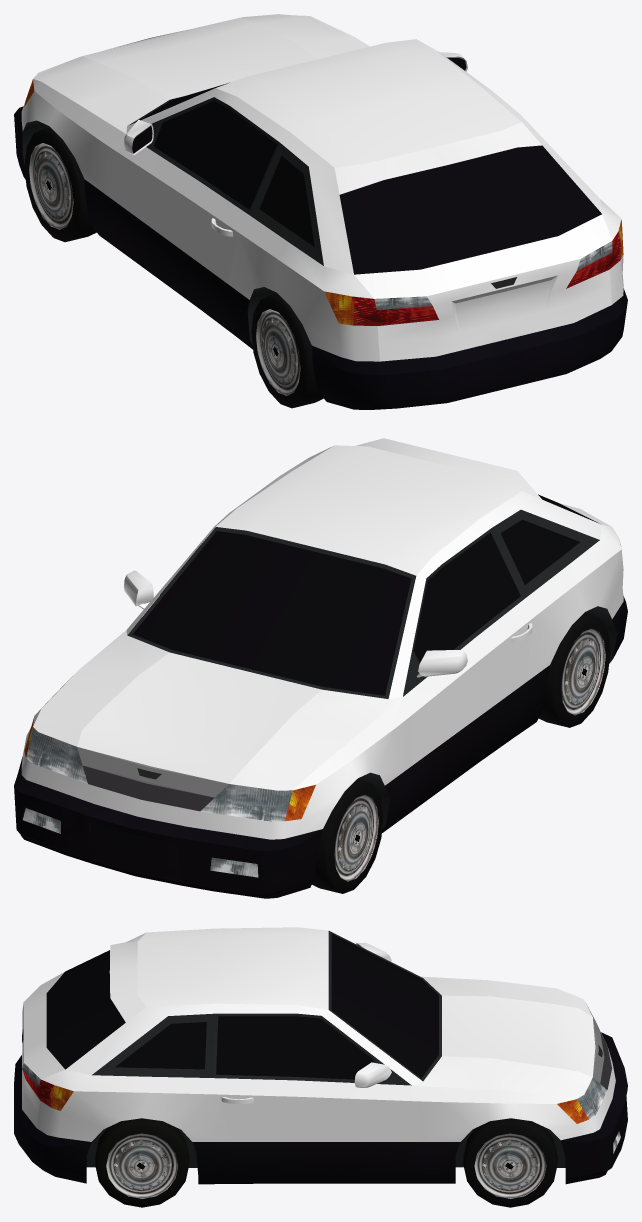
The model's file is aq-hatchback-old.glb.
3 views of the same model, one above another, from view 1: azimuth 30°, elevation 25°; view 2: azimuth 150°, elevation 25°; view 3: azimuth 270°, elevation 25° (orthographic). The views are drawn at different scales.
Parts seen in each view (by area): view 1: hatchback-old-paint.010, hatchback-old-windows.010, hatchback-old-Cube.108, hatchback-old-blackparts.010, hatchback-old-rim.040, hatchback-old-rim.043, hatchback-old-tire.040, hatchback-old-tire.039, hatchback-old-taillights.010, hatchback-old-headlights.017, hatchback-old-blinkers.006; view 2: hatchback-old-paint.010, hatchback-old-windows.010, hatchback-old-Cube.108, hatchback-old-blackparts.010, hatchback-old-headlights.017, hatchback-old-tire.039, hatchback-old-tire.040, hatchback-old-rim.040, hatchback-old-rim.043, hatchback-old-silvertrim.009, hatchback-old-grills.010, hatchback-old-blinkers.006; view 3: hatchback-old-paint.010, hatchback-old-windows.010, hatchback-old-Cube.108, hatchback-old-blackparts.010, hatchback-old-rim.042, hatchback-old-rim.041, hatchback-old-tire.041, hatchback-old-tire.042, hatchback-old-headlights.017, hatchback-old-blinkers.006, hatchback-old-silvertrim.009, hatchback-old-taillights.010.
Boxes of the visible parts, x1,y1,x2,y2 form: hatchback-old-paint.010: (21, 14, 623, 361); hatchback-old-windows.010: (132, 58, 601, 274); hatchback-old-Cube.108: (14, 106, 627, 409); hatchback-old-blackparts.010: (22, 97, 323, 344); hatchback-old-rim.040: (256, 309, 300, 395); hatchback-old-rim.043: (29, 143, 73, 229); hatchback-old-tire.040: (251, 293, 323, 408); hatchback-old-tire.039: (24, 127, 96, 242); hatchback-old-taillights.010: (352, 232, 620, 325); hatchback-old-headlights.017: (374, 241, 612, 309); hatchback-old-blinkers.006: (24, 79, 623, 325); hatchback-old-paint.010: (21, 438, 623, 839); hatchback-old-windows.010: (133, 494, 599, 695); hatchback-old-Cube.108: (14, 576, 627, 898); hatchback-old-blackparts.010: (127, 509, 617, 829); hatchback-old-headlights.017: (23, 727, 292, 877); hatchback-old-tire.039: (312, 779, 383, 893); hatchback-old-tire.040: (538, 613, 610, 727); hatchback-old-rim.040: (561, 628, 605, 715); hatchback-old-rim.043: (334, 794, 378, 881); hatchback-old-silvertrim.009: (77, 747, 228, 797); hatchback-old-grills.010: (83, 765, 214, 811); hatchback-old-blinkers.006: (24, 541, 621, 821); hatchback-old-paint.010: (22, 927, 615, 1141); hatchback-old-windows.010: (46, 933, 438, 1079); hatchback-old-Cube.108: (14, 1023, 627, 1184); hatchback-old-blackparts.010: (86, 931, 565, 1167); hatchback-old-rim.042: (474, 1133, 546, 1198); hatchback-old-rim.041: (106, 1133, 178, 1198); hatchback-old-tire.041: (463, 1118, 557, 1207); hatchback-old-tire.042: (95, 1118, 189, 1207); hatchback-old-headlights.017: (22, 1004, 620, 1153); hatchback-old-blinkers.006: (50, 1085, 588, 1123); hatchback-old-silvertrim.009: (593, 1018, 604, 1083); hatchback-old-taillights.010: (22, 1069, 53, 1107).
Size of the model in its own units: 2.06 by 1.33 by 3.98.
9 materials, 6 textured.
